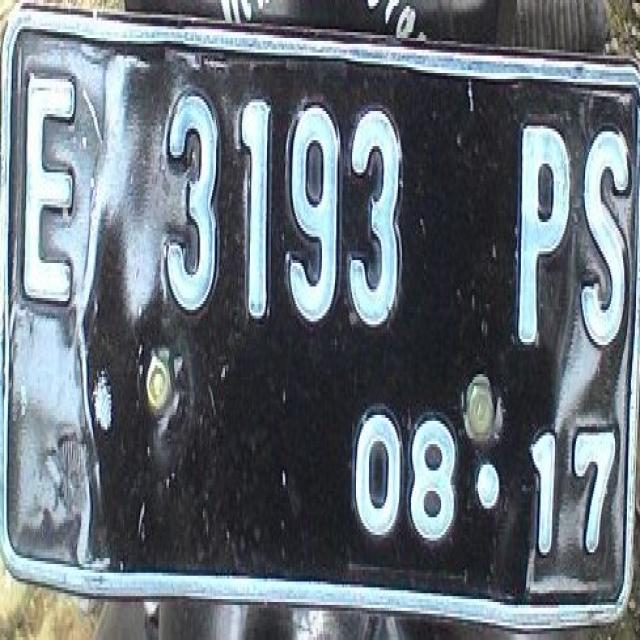plate: (1, 3, 638, 625)
